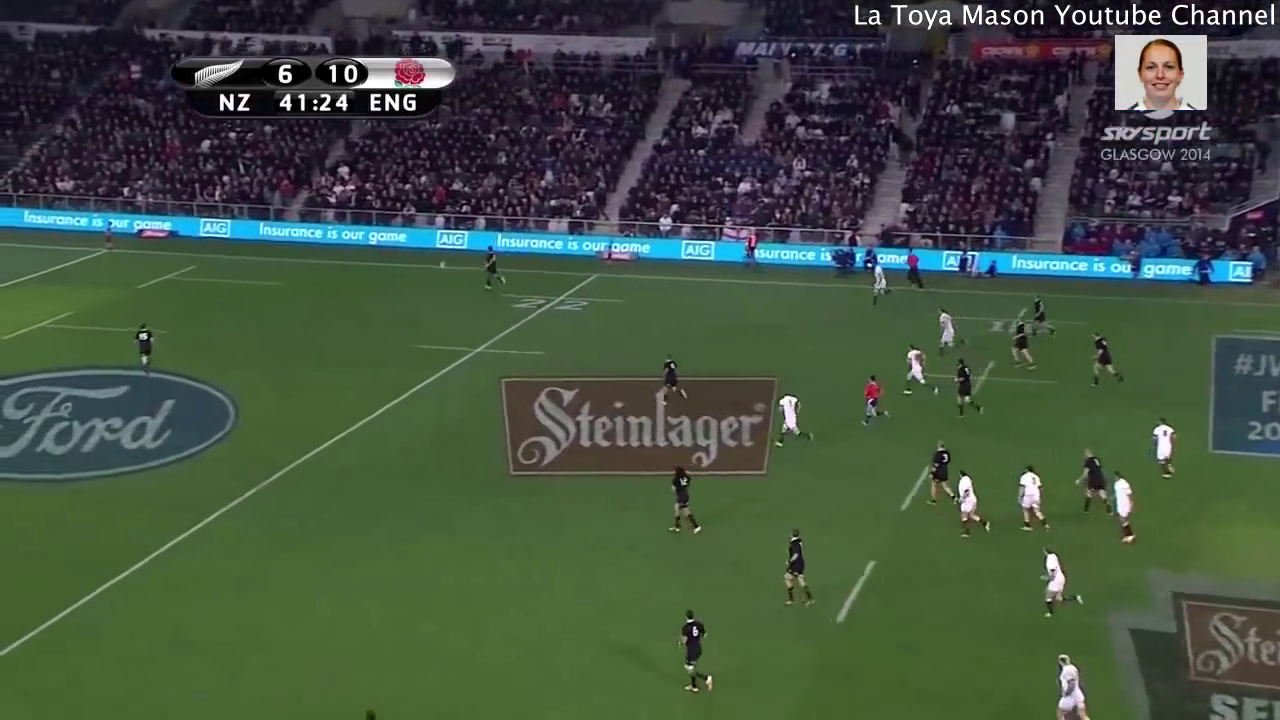10_metre: (921, 348, 1061, 405), (946, 303, 1079, 342)
player: (674, 603, 715, 700), (1032, 546, 1085, 620), (662, 454, 701, 540), (1072, 445, 1113, 520), (765, 389, 814, 449), (779, 530, 815, 609), (1012, 464, 1052, 535), (953, 464, 990, 540), (1047, 652, 1088, 720), (900, 339, 941, 404), (856, 369, 897, 434), (1084, 329, 1123, 392), (1112, 470, 1140, 555), (1146, 412, 1179, 483), (923, 435, 955, 508), (954, 352, 985, 422), (129, 319, 163, 381), (655, 353, 689, 412), (1003, 316, 1035, 372), (935, 303, 967, 359), (473, 244, 508, 294), (865, 259, 900, 307), (1026, 292, 1055, 343)
